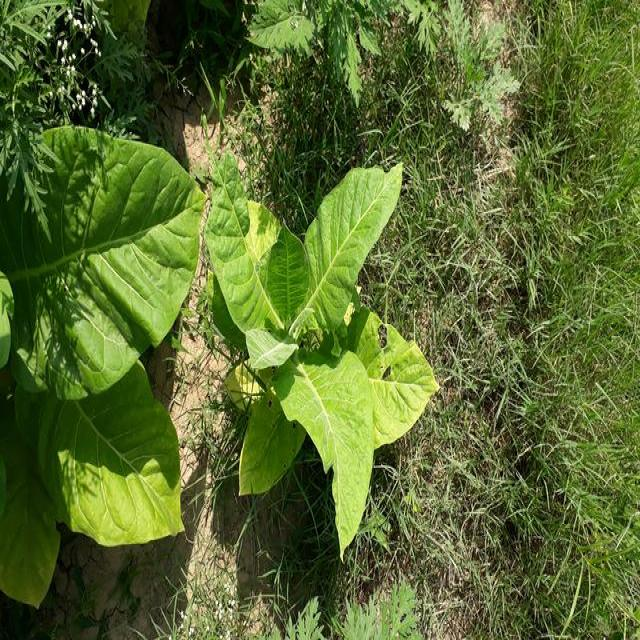crop: (214, 164, 439, 537), (8, 146, 183, 602)
